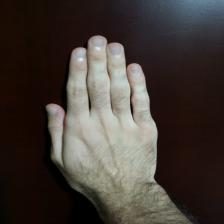five: (43, 33, 158, 204)
